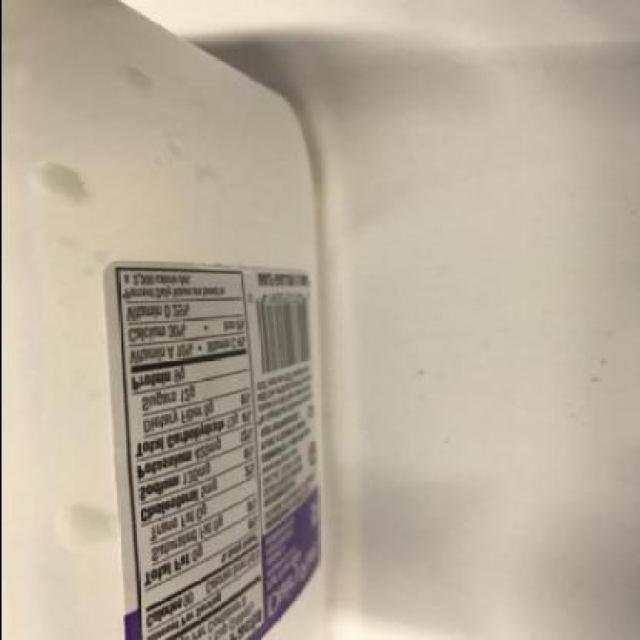PLASTIC: (1, 0, 324, 638)
